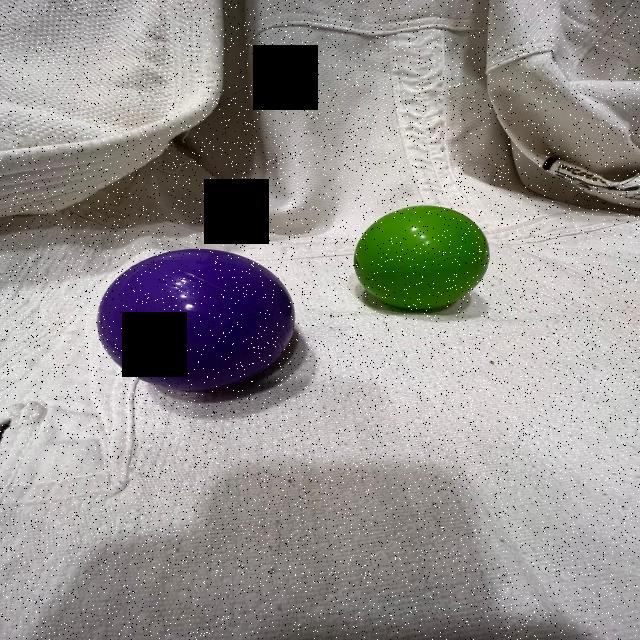ball: (92, 245, 297, 394), (350, 204, 494, 313)
